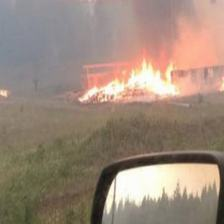fire: (65, 48, 205, 108)
